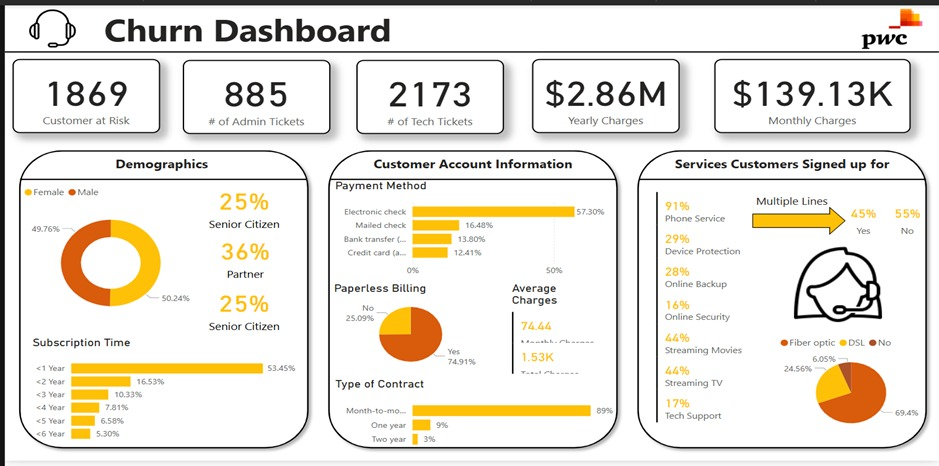

Layout of this report page (visuals, bound fields, positions):
{"tool":"powerbi","page":{"name":"Page 2","canvas":[1280,720],"ordinal":0},"visuals":[{"type":"card","fields":{"Values":["Count(01 Churn-Dataset.customerID)"]},"box":[10.4,84.7,202.2,117.4],"z":0},{"type":"card","fields":{"Values":["Sum(01 Churn-Dataset.numTechTickets)"]},"box":[481.6,86.2,202.2,117.4],"z":1000},{"type":"card","fields":{"Values":["calculations.monthlyChargesofChurn"]},"box":[972.1,84.7,269,117.4],"z":2000},{"type":"card","fields":{"Values":["Sum(01 Churn-Dataset.numAdminTickets)"]},"box":[243.8,86.2,202.2,117.4],"z":3000},{"type":"card","fields":{"Values":["calculations.totalChargesofChurn"]},"box":[722.4,84.7,202.2,117.4],"z":4000},{"type":"card","fields":{"Values":["calculations.seniorCitizenpercentage"]},"box":[96.6,247.7,115.9,83.2],"z":5000},{"type":"shape","box":[10.4,220,414.7,489],"z":6000},{"type":"shape","box":[434,220,414.7,489],"z":7000},{"type":"shape","box":[858,220,414.7,489],"z":8000},{"type":"shape","box":[0,52,1279.8,43.1],"z":9000},{"type":"card","fields":{"Values":["calculations.seniorCitizenpercentage"]},"box":[269,275,117.4,84.7],"z":10000},{"type":"donutChart","fields":{"Category":["01 Churn-Dataset.gender"],"Y":["CountNonNull(01 Churn-Dataset.customerID)"]},"box":[20.8,275,248.2,234.9],"z":11000},{"type":"shape","box":[20.8,260.1,392.4,29.7],"z":12000},{"type":"card","fields":{"Values":["calculations.seniorCitizenpercentage"]},"box":[269,435.5,117.4,86.2],"z":13000},{"type":"card","fields":{"Values":["calculations.Partnerpercentage"]},"box":[270.5,356.7,117.4,78.8],"z":14000},{"type":"barChart","title":"Payment Method","fields":{"Category":["01 Churn-Dataset.PaymentMethod"],"Y":["CountNonNull(01 Churn-Dataset.customerID)"]},"box":[447.4,275,390.9,162],"z":15000},{"type":"pieChart","title":"Paperless Billing","fields":{"Y":["CountNonNull(01 Churn-Dataset.customerID)"],"Category":["01 Churn-Dataset.PaperlessBilling"]},"box":[445.9,437,220,144.2],"z":16000},{"type":"cardVisual","title":"Average Charges","fields":{"Data":["Avg(01 Churn-Dataset.MonthlyCharges)","Avg(01 Churn-Dataset.TotalCharges)"]},"box":[689.7,437,148.6,151.6],"z":17000},{"type":"shape","box":[869.5,260.1,392.4,29.7],"z":18000},{"type":"shape","box":[445.9,260.1,392.4,29.7],"z":19000},{"type":"barChart","title":"Type of Contract","fields":{"Category":["01 Churn-Dataset.Contract"],"Y":["CountNonNull(01 Churn-Dataset.customerID)"]},"box":[447.4,588.6,390.9,120.4],"z":20000},{"type":"textbox","box":[60,231.9,310.7,43.1],"z":21000},{"type":"cardVisual","fields":{"Data":["calculations.PhoneServicepercentage","calculations.DeviceProtectionpercentage","calculations.OnlineBackuppercentage","calculations.OnlineSecuritypercentage","calculations.StreamingMoviespercentage","calculations.StreamingTVpercentage","calculations.TechSupportpercentage"]},"box":[887.4,289.8,144.2,377.5],"z":22000},{"type":"pieChart","fields":{"Category":["01 Churn-Dataset.InternetService"],"Y":["CountNonNull(01 Churn-Dataset.customerID)"]},"box":[1056.8,512.8,205.1,169.4],"z":23000},{"type":"cardVisual","fields":{"Data":["calculations.MultipleLinespercentage(yes)","calculations.MultipleLinespercentage(no)"]},"box":[1141.6,301.7,130.8,74.3],"z":24000},{"type":"image","box":[1076.2,370.1,130.8,139.7],"z":25000},{"type":"textbox","box":[906.7,231.9,316.6,43.1],"z":26000},{"type":"textbox","box":[481.6,231.9,319.6,43.1],"z":27000},{"type":"textbox","box":[130.8,0,447.4,74.3],"z":28000},{"type":"image","box":[0,0,130.8,74.3],"z":29000},{"type":"image","box":[1152,0,127.8,74.3],"z":30000},{"type":"barChart","title":"Subscription Time","fields":{"Category":["01 Churn-Dataset.TenureYear"],"Y":["CountNonNull(01 Churn-Dataset.customerID)"]},"box":[32.7,523.2,370.1,175.4],"z":31000},{"type":"shape","box":[1024.1,318.1,127.8,44.6],"z":32000},{"type":"textbox","box":[1024.1,292.8,127.8,38.6],"z":33000}]}

Visuals, with their boxes on the page's 1280x720 design canvas (x1, y1, x2, y2). These are canvas units, not pixel positions in the 939x466 screenshot, which may show the page scaled, cropped or inside an application window:
card - Count(01 Churn-Dataset.customerID): l=10, t=85, r=213, b=202
card - Sum(01 Churn-Dataset.numTechTickets): l=482, t=86, r=684, b=204
card - calculations.monthlyChargesofChurn: l=972, t=85, r=1241, b=202
card - Sum(01 Churn-Dataset.numAdminTickets): l=244, t=86, r=446, b=204
card - calculations.totalChargesofChurn: l=722, t=85, r=925, b=202
card - calculations.seniorCitizenpercentage: l=97, t=248, r=212, b=331
shape: l=10, t=220, r=425, b=709
shape: l=434, t=220, r=849, b=709
shape: l=858, t=220, r=1273, b=709
shape: l=0, t=52, r=1280, b=95
card - calculations.seniorCitizenpercentage: l=269, t=275, r=386, b=360
donutChart - 01 Churn-Dataset.gender x CountNonNull(01 Churn-Dataset.customerID): l=21, t=275, r=269, b=510
shape: l=21, t=260, r=413, b=290
card - calculations.seniorCitizenpercentage: l=269, t=436, r=386, b=522
card - calculations.Partnerpercentage: l=270, t=357, r=388, b=436
"Payment Method" barChart: l=447, t=275, r=838, b=437
"Paperless Billing" pieChart: l=446, t=437, r=666, b=581
"Average Charges" cardVisual: l=690, t=437, r=838, b=589
shape: l=870, t=260, r=1262, b=290
shape: l=446, t=260, r=838, b=290
"Type of Contract" barChart: l=447, t=589, r=838, b=709
textbox: l=60, t=232, r=371, b=275
cardVisual - calculations.PhoneServicepercentage x calculations.DeviceProtectionpercentage: l=887, t=290, r=1032, b=667
pieChart - 01 Churn-Dataset.InternetService x CountNonNull(01 Churn-Dataset.customerID): l=1057, t=513, r=1262, b=682
cardVisual - calculations.MultipleLinespercentage(yes) x calculations.MultipleLinespercentage(no): l=1142, t=302, r=1272, b=376
image: l=1076, t=370, r=1207, b=510
textbox: l=907, t=232, r=1223, b=275
textbox: l=482, t=232, r=801, b=275
textbox: l=131, t=0, r=578, b=74
image: l=0, t=0, r=131, b=74
image: l=1152, t=0, r=1280, b=74
"Subscription Time" barChart: l=33, t=523, r=403, b=699
shape: l=1024, t=318, r=1152, b=363
textbox: l=1024, t=293, r=1152, b=331
